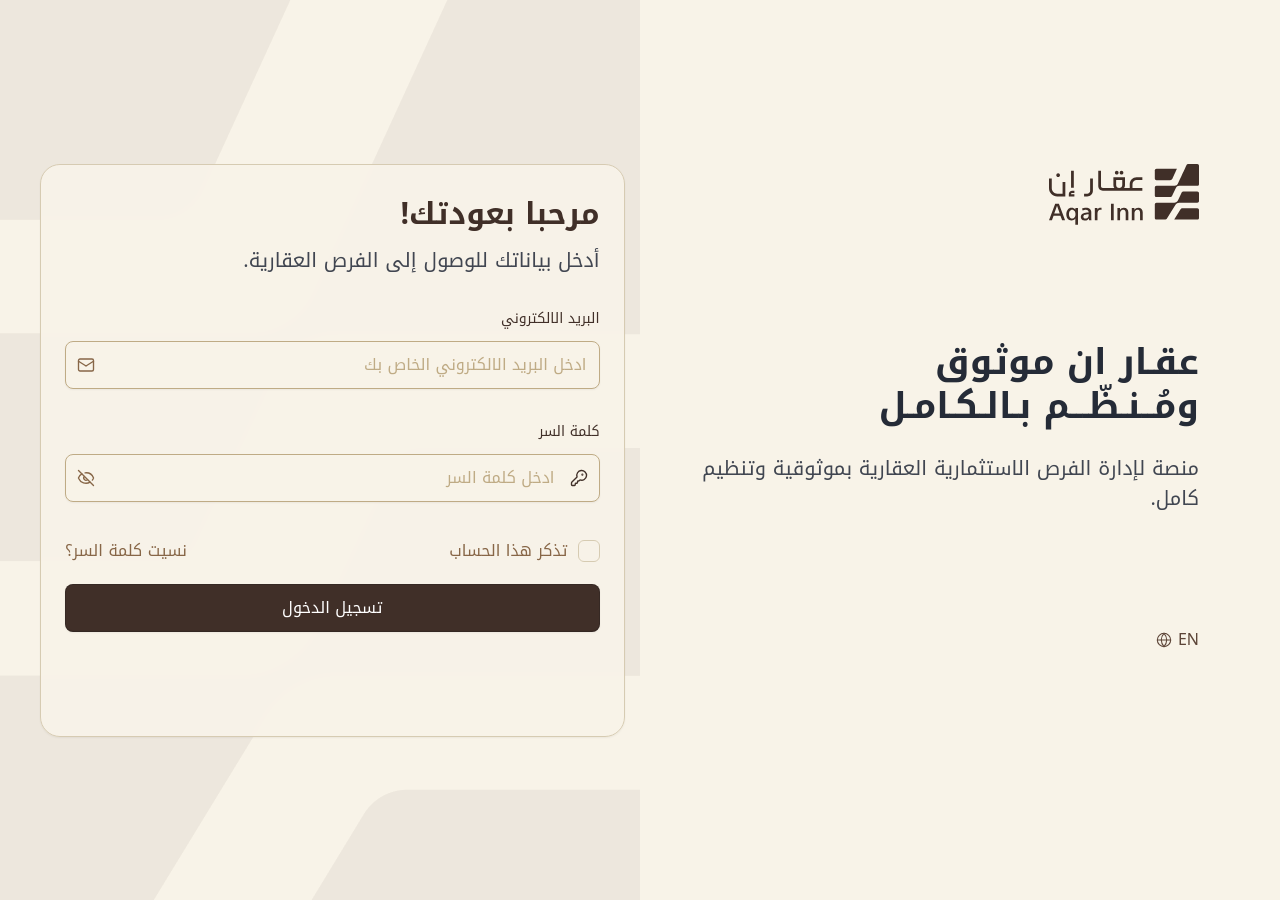
Auth flow routes › shows required field errors on empty login submit
Click the button "تسجيل الدخول".
click(332, 608)  # box [65,584,600,632]
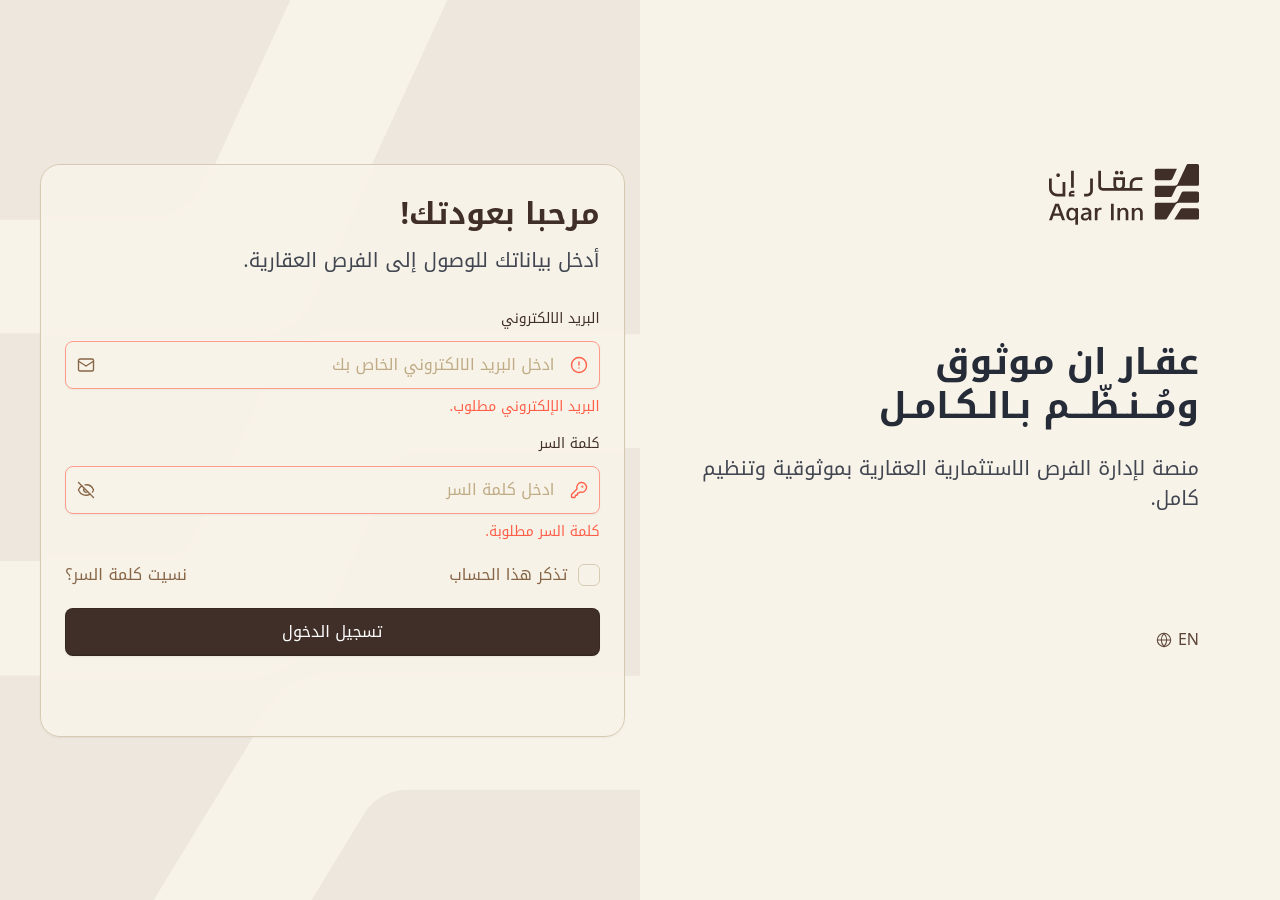
Check: the text "البريد الإلكتروني مطلوب." is shown, box [450,392,600,420]
Check: the text "كلمة السر مطلوبة." is shown, box [485,518,600,544]
